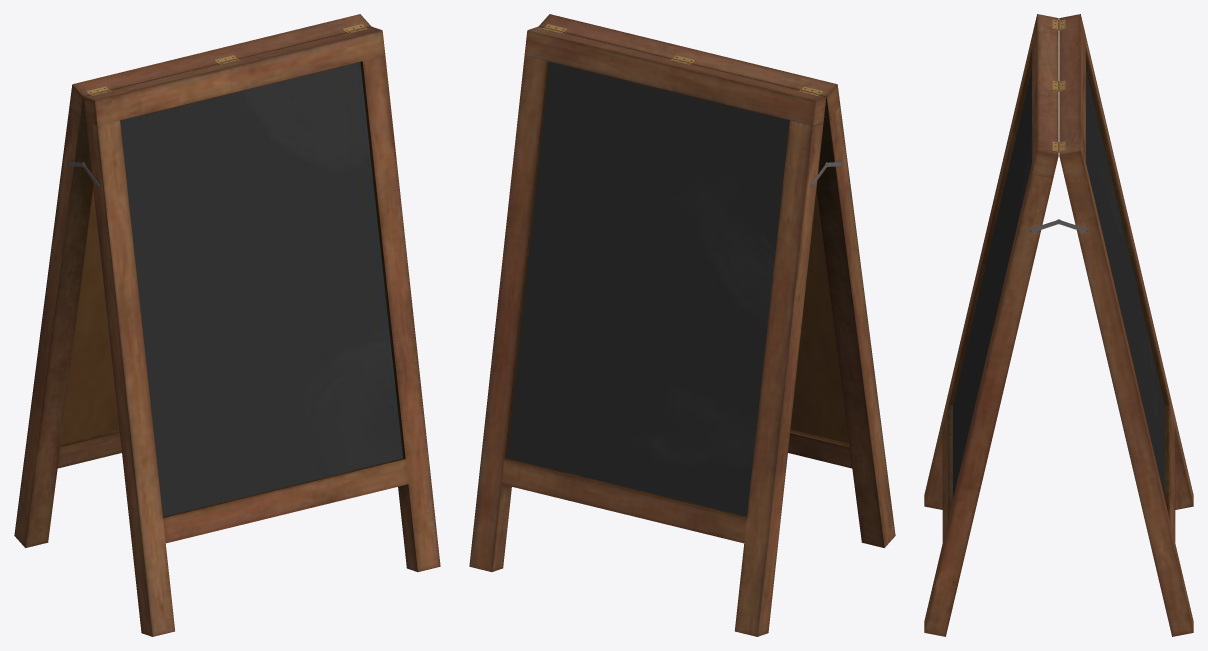
File: standing_chalkboard_01.glb
3 renders of one model, left to right at view 1: azimuth 30°, elevation 25°; view 2: azimuth 150°, elevation 25°; view 3: azimuth 270°, elevation 25°, orthographic. The views are drawn at different scales.
Visible parts, largest first — view 1: standing_chalkboard_01; view 2: standing_chalkboard_01; view 3: standing_chalkboard_01.
Boxes of the visible parts, x1=… form: standing_chalkboard_01: x1=14, y1=14, x2=440, y2=636; standing_chalkboard_01: x1=469, y1=14, x2=895, y2=636; standing_chalkboard_01: x1=924, y1=14, x2=1193, y2=636.
Bounding box in the file's own units: 0.9195 × 1.51 × 0.7587.
1 material, 1 textured.
